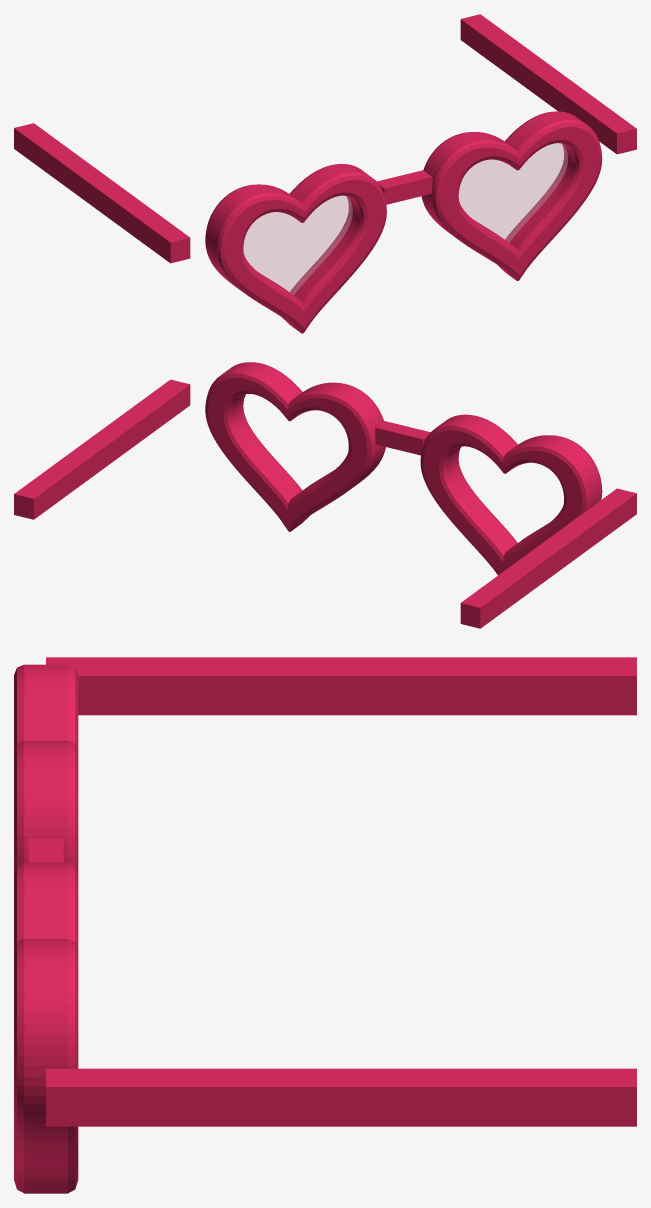
Rendered from gl_eqmo0.glb.
3 views of the same model, one above another, from view 1: azimuth 30°, elevation 25°; view 2: azimuth 150°, elevation 25°; view 3: azimuth 270°, elevation 25° (orthographic). The views are drawn at different scales.
Size of the model in its own units: 1.8 by 0.553 by 1.1.
